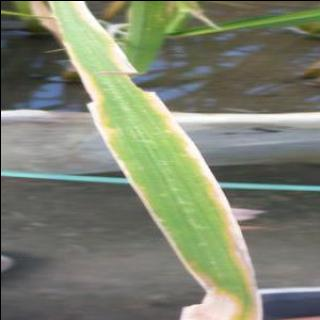Hawar-Daun: (60, 41, 245, 319), (141, 93, 265, 319), (72, 1, 138, 74)
